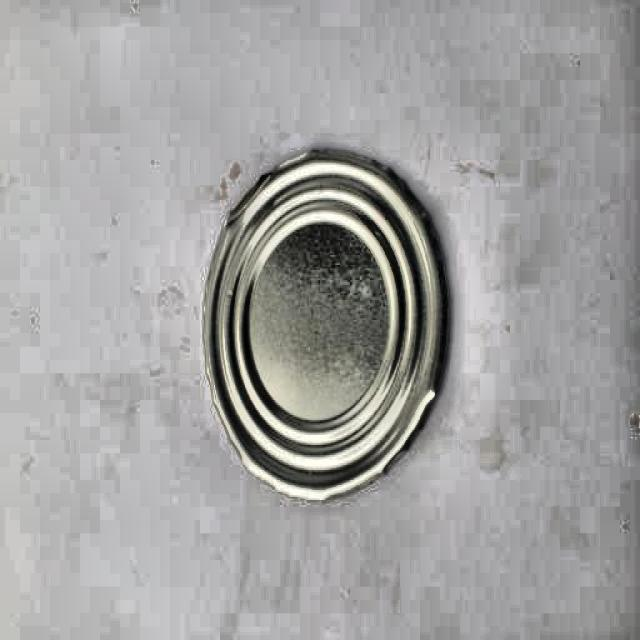metal: (197, 141, 452, 503)
